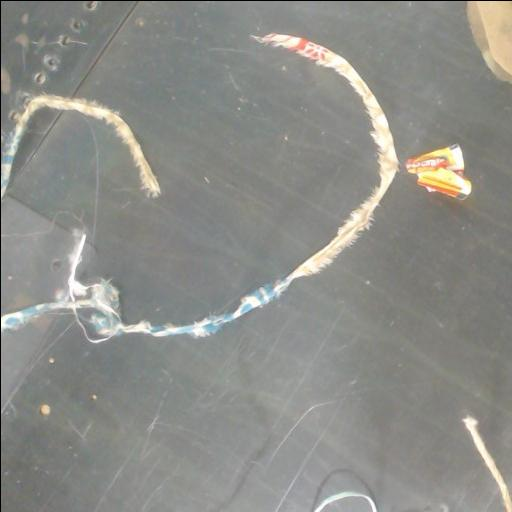cloth: (1, 33, 397, 342), (6, 94, 159, 193), (462, 416, 512, 512), (467, 1, 512, 82)
conveyor belt: (1, 1, 512, 512)
packet: (405, 144, 471, 199)
thread: (313, 491, 377, 512)
